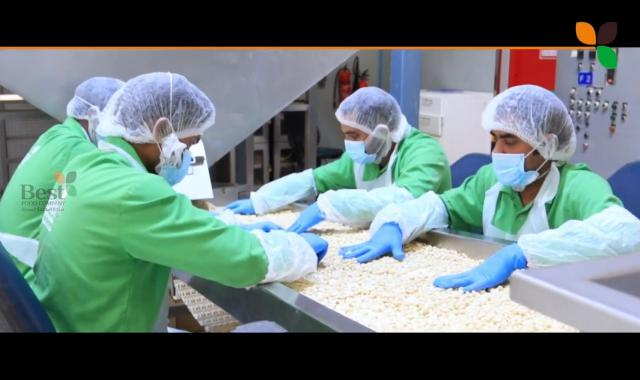hairnet: (478, 84, 582, 164), (106, 72, 212, 147), (334, 84, 402, 144)
